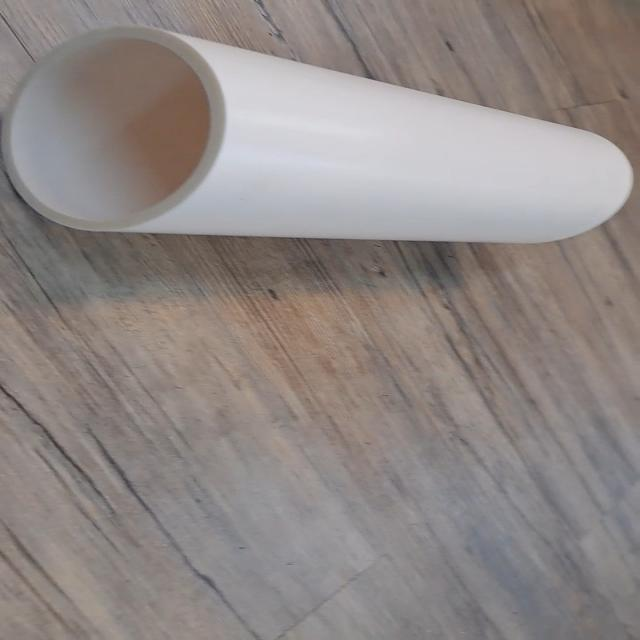CORAL: (0, 25, 640, 266)
